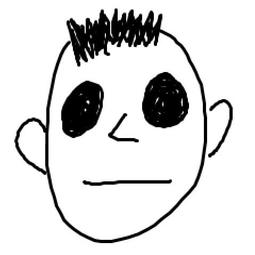ear: (10, 112, 48, 174), (204, 93, 236, 166)
eye: (136, 66, 190, 133), (57, 79, 106, 140)
line_unsmiling_mouth: (81, 175, 176, 193)
pointy_nose: (106, 112, 140, 147)
